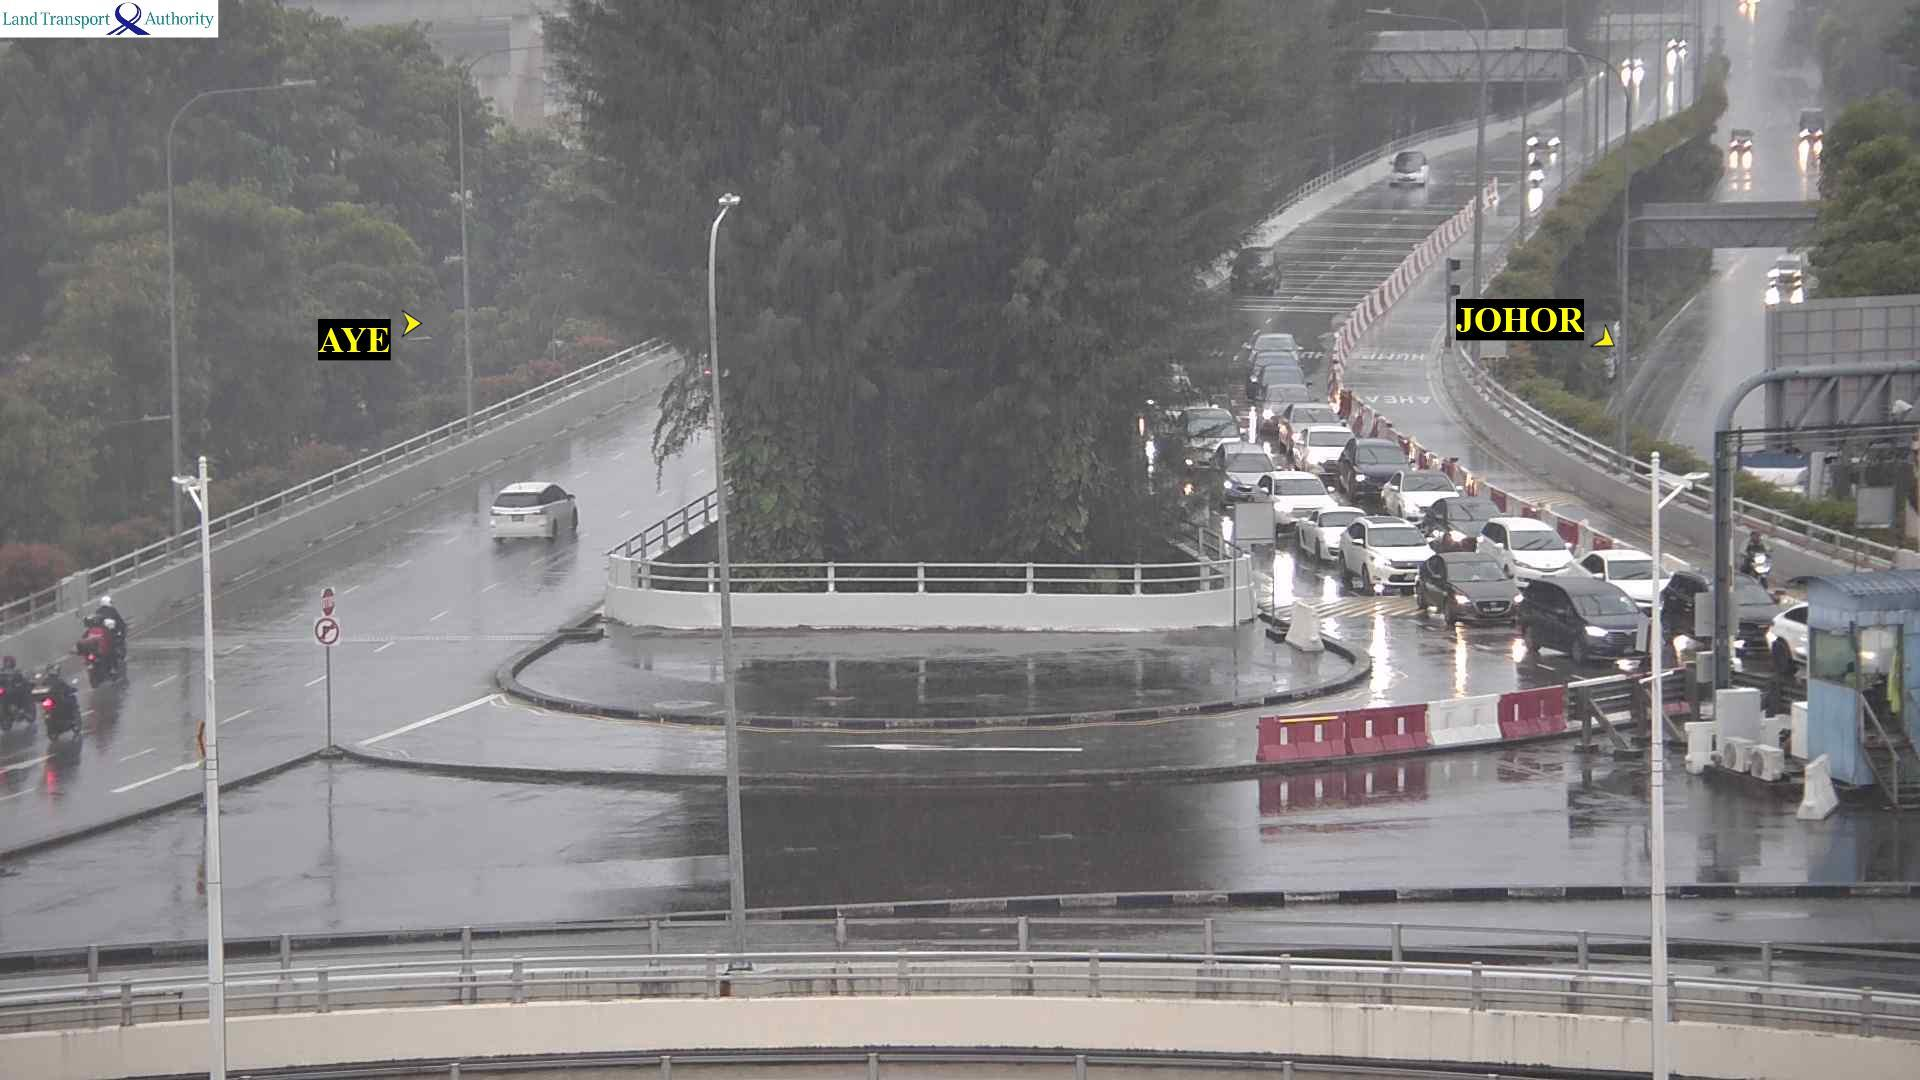vehicle-secondlink-johor: (1524, 577, 1651, 661), (1661, 568, 1782, 653), (1418, 551, 1525, 626), (1342, 516, 1433, 588), (1477, 516, 1572, 584), (1573, 548, 1677, 610), (1340, 435, 1411, 498), (1252, 471, 1332, 525), (1425, 496, 1502, 549), (1298, 508, 1366, 560), (1178, 409, 1242, 464), (1212, 442, 1273, 497), (1382, 471, 1458, 515), (1294, 429, 1357, 475), (1232, 243, 1284, 294), (1282, 406, 1340, 446), (1261, 387, 1314, 428), (1246, 331, 1298, 368), (1392, 150, 1427, 188), (1255, 371, 1304, 395)
vehicle-secondlink-singapore: (493, 478, 578, 544), (80, 596, 128, 689), (37, 667, 75, 740), (1, 651, 35, 727)
